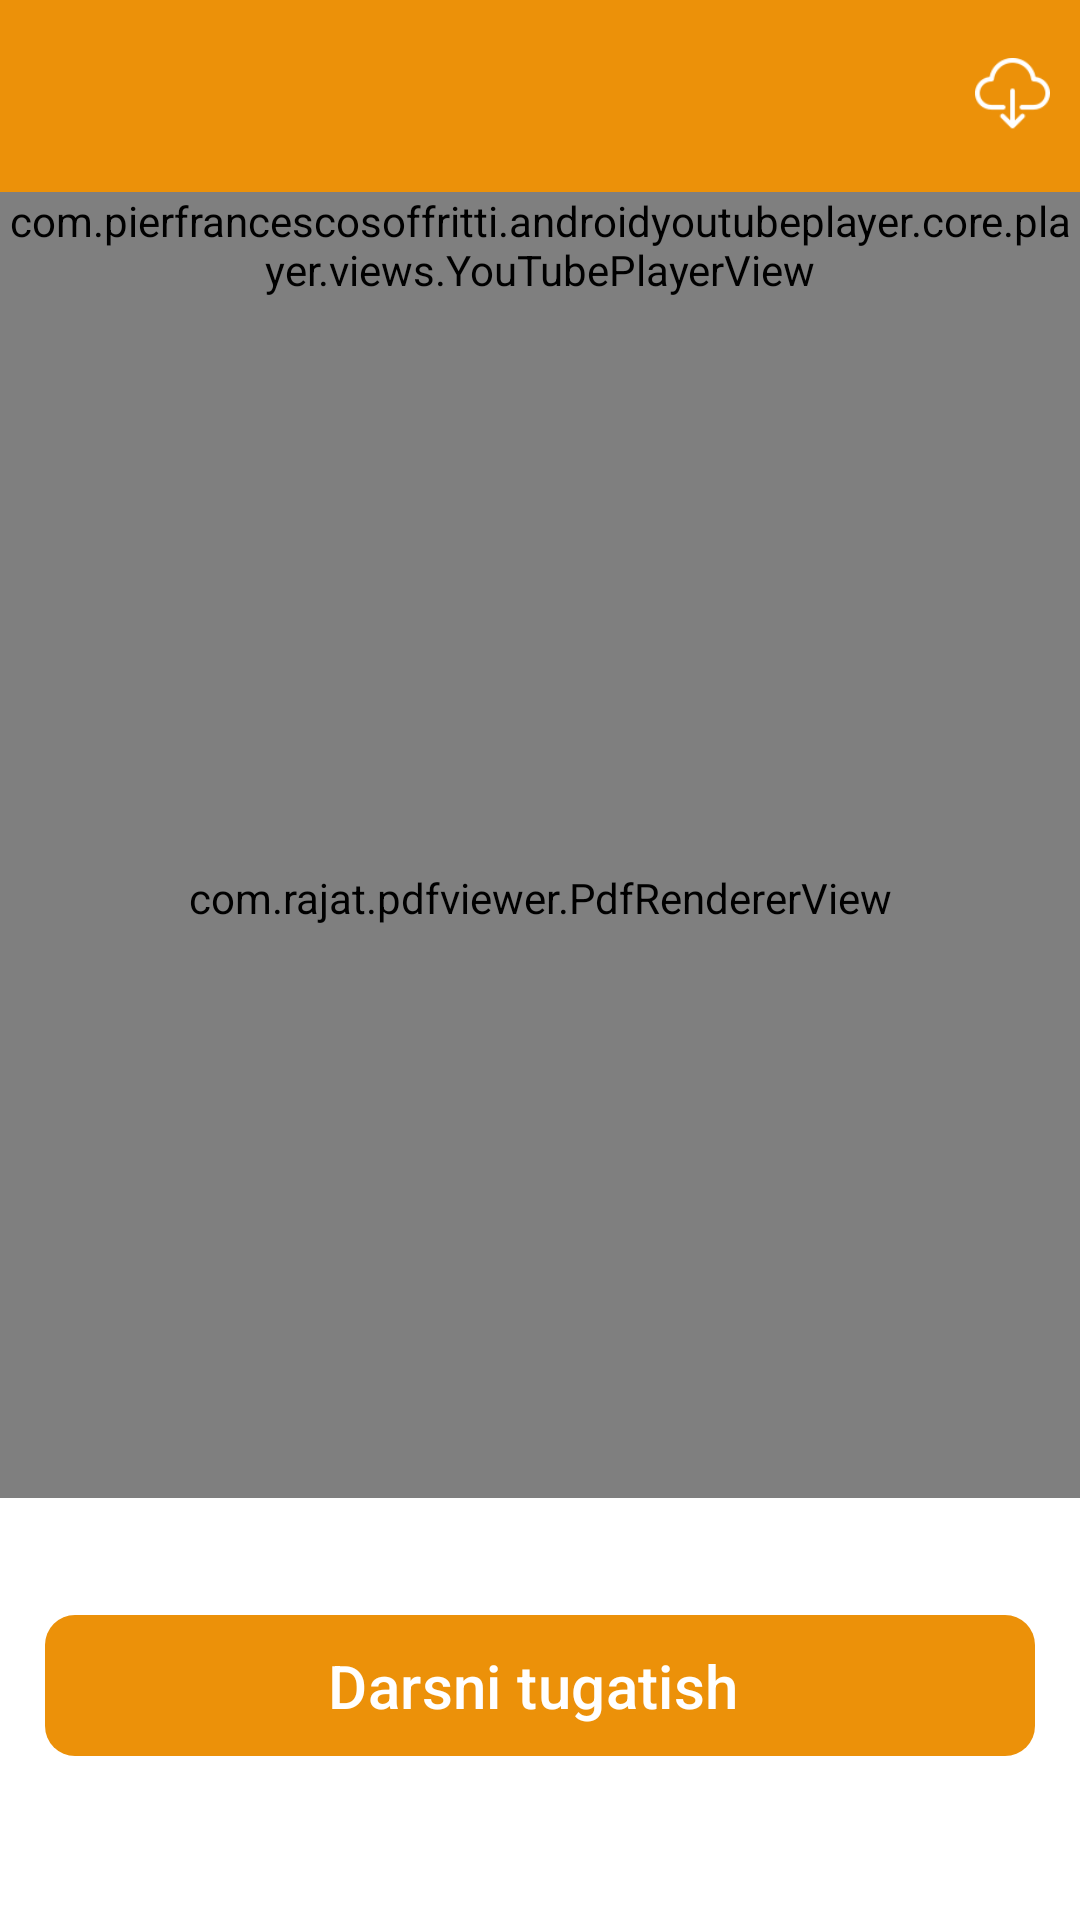

Where to tap for icons on this 1080px×1920px app screen, as (x=x, y=y):
download: (x=1012, y=93)
